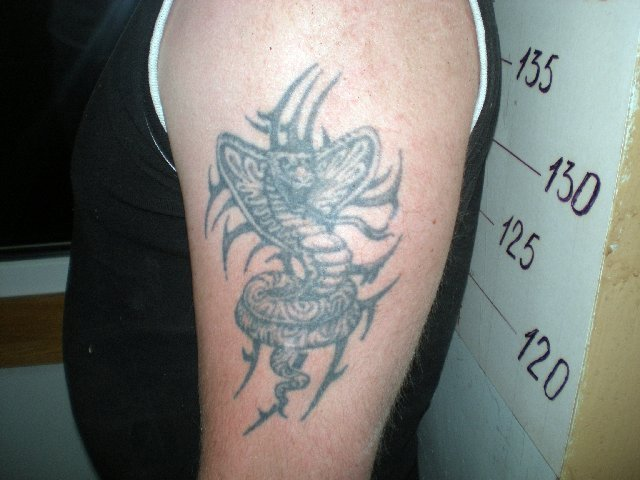tatu6_drakon: (187, 56, 396, 419)
